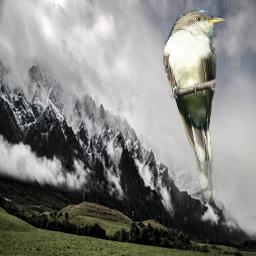Cuckoo: (163, 9, 226, 204)
